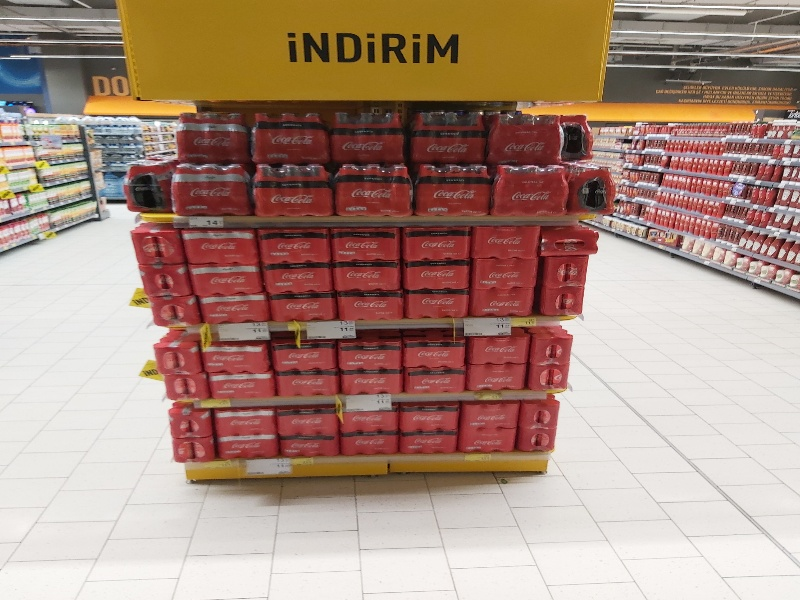urun: (131, 225, 191, 323), (168, 103, 246, 161), (250, 106, 328, 164), (323, 104, 401, 162), (406, 103, 484, 161), (485, 103, 563, 161), (492, 159, 570, 217), (412, 160, 490, 218), (331, 161, 409, 219), (252, 161, 330, 219), (170, 161, 248, 219), (253, 219, 332, 266), (537, 258, 593, 318), (181, 227, 259, 270), (151, 332, 201, 399), (526, 327, 574, 393), (330, 223, 402, 265), (467, 258, 541, 297), (186, 262, 261, 299), (402, 225, 477, 262), (331, 257, 403, 295), (403, 257, 471, 296), (474, 224, 542, 262), (256, 265, 335, 297), (168, 407, 214, 460), (204, 339, 273, 374), (336, 286, 404, 321), (519, 396, 561, 452), (463, 328, 531, 362), (461, 359, 529, 393), (203, 368, 277, 399), (266, 340, 340, 371), (266, 365, 340, 396), (473, 284, 540, 318), (334, 337, 403, 370), (335, 363, 404, 396), (192, 292, 266, 322), (401, 337, 466, 371), (261, 291, 336, 320), (461, 397, 528, 428), (405, 290, 473, 320), (398, 369, 465, 399), (213, 408, 281, 437), (215, 431, 283, 460), (274, 409, 342, 438), (276, 431, 344, 460), (338, 430, 406, 459), (335, 403, 403, 432), (394, 404, 462, 433), (393, 422, 461, 451), (461, 424, 524, 454)
